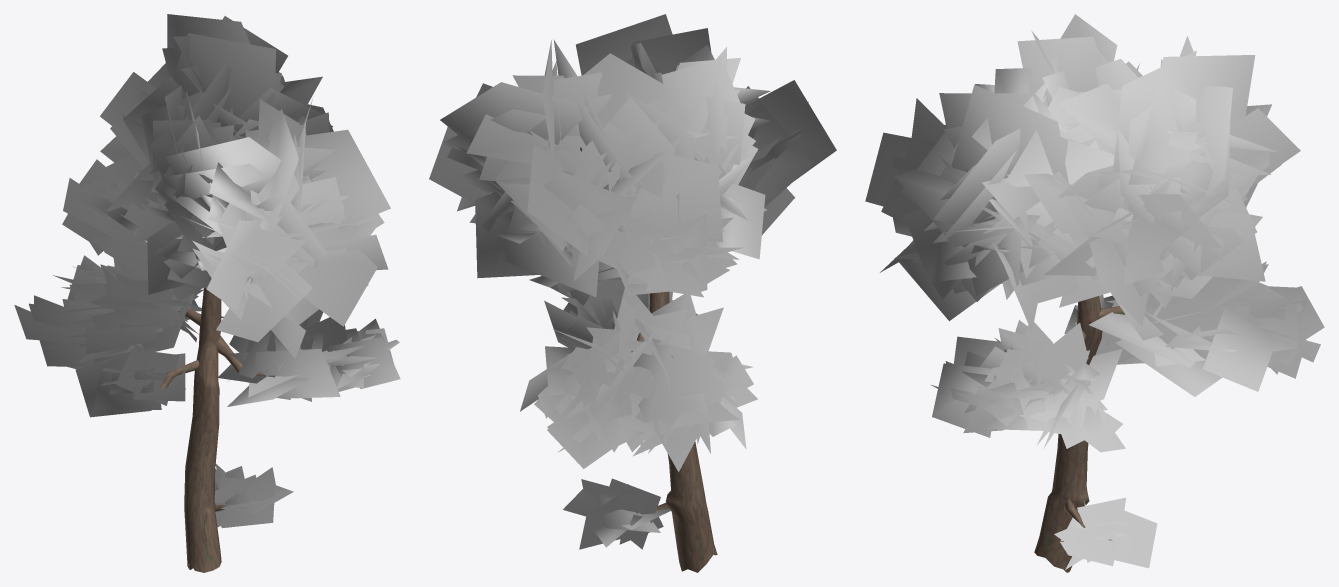
File: SM_EastLands_Conifer_Multi_02_Trunk_B.fbx
3 renders of one model, left to right at view 1: azimuth 30°, elevation 25°; view 2: azimuth 150°, elevation 25°; view 3: azimuth 270°, elevation 25°, orthographic. The views are drawn at different scales.
Visible parts, largest first — view 1: SM_EastLands_Conifer_Multi_02_Trunk_B_LOD0; view 2: SM_EastLands_Conifer_Multi_02_Trunk_B_LOD0; view 3: SM_EastLands_Conifer_Multi_02_Trunk_B_LOD0.
Boxes of the visible parts, x1,y1,x2,y2 form: SM_EastLands_Conifer_Multi_02_Trunk_B_LOD0: (14,14,400,572); SM_EastLands_Conifer_Multi_02_Trunk_B_LOD0: (429,14,836,572); SM_EastLands_Conifer_Multi_02_Trunk_B_LOD0: (865,14,1324,572).
Size of the model in its own units: 987 by 1644 by 1228.
